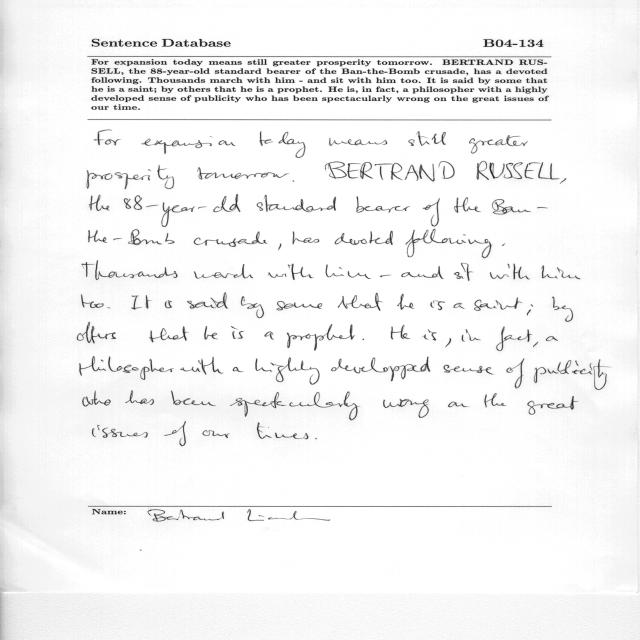word: (124, 194, 240, 227), (230, 392, 360, 421), (325, 161, 455, 182), (405, 229, 493, 258), (331, 357, 430, 382), (534, 359, 611, 390), (80, 356, 174, 380), (87, 165, 174, 189), (287, 324, 355, 351), (82, 261, 178, 280), (255, 357, 320, 385), (142, 136, 236, 154), (477, 161, 560, 180), (89, 229, 175, 245), (256, 195, 336, 212), (260, 131, 306, 158), (197, 167, 289, 180), (194, 231, 267, 247), (469, 135, 528, 154), (527, 396, 579, 415), (356, 196, 410, 213), (492, 199, 548, 215), (194, 264, 253, 279), (383, 399, 429, 418), (257, 423, 308, 440), (497, 327, 533, 351), (77, 322, 116, 343), (335, 231, 393, 245), (338, 293, 383, 311), (180, 357, 224, 375), (268, 264, 314, 280), (93, 425, 148, 438), (326, 264, 371, 279), (171, 391, 216, 406), (474, 297, 522, 311), (187, 293, 228, 309), (149, 327, 189, 343), (490, 264, 530, 279), (542, 265, 581, 280), (408, 131, 446, 146), (401, 266, 444, 279), (164, 422, 186, 447), (552, 296, 573, 322), (507, 359, 525, 389), (241, 296, 264, 318), (423, 198, 440, 226), (329, 138, 387, 146), (444, 365, 494, 374), (83, 391, 111, 407), (454, 197, 481, 213), (94, 130, 121, 145), (277, 301, 322, 310), (126, 391, 154, 405), (293, 232, 320, 245), (454, 263, 473, 281), (90, 194, 110, 211), (81, 294, 104, 308), (131, 295, 152, 310), (485, 393, 507, 407), (391, 325, 411, 340), (397, 294, 414, 310), (462, 329, 481, 342), (202, 430, 230, 438), (204, 326, 218, 339), (422, 329, 437, 341), (231, 326, 244, 339), (430, 301, 445, 311), (448, 402, 469, 407), (264, 332, 274, 340), (453, 303, 465, 309), (527, 304, 533, 316), (446, 338, 452, 348), (546, 336, 558, 341), (165, 300, 172, 308), (233, 367, 244, 372), (560, 178, 566, 184), (533, 342, 538, 347), (380, 275, 391, 277), (279, 243, 282, 250), (502, 243, 505, 246), (107, 307, 110, 309), (293, 180, 295, 182), (362, 339, 364, 340), (316, 438, 318, 439)
